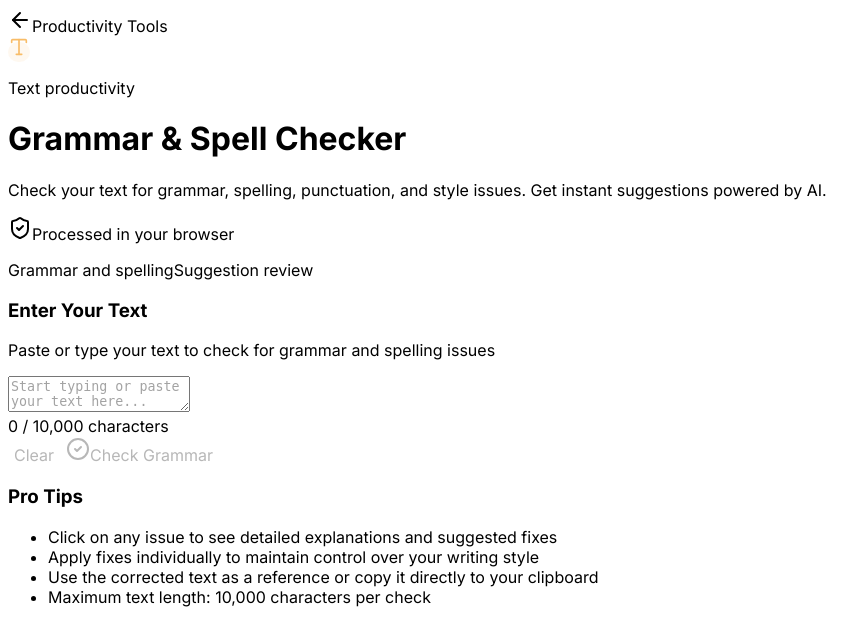
Scenario: Grammar Checker Page › Text Input › updates character count when typing
This screenshot has width=843, height=624.
Type "Hello world" into the text box with placeholder "Start typing or paste your text here...".
click(99, 394); type("Hello world")  # box top-left (8, 376), bottom-right (190, 412)
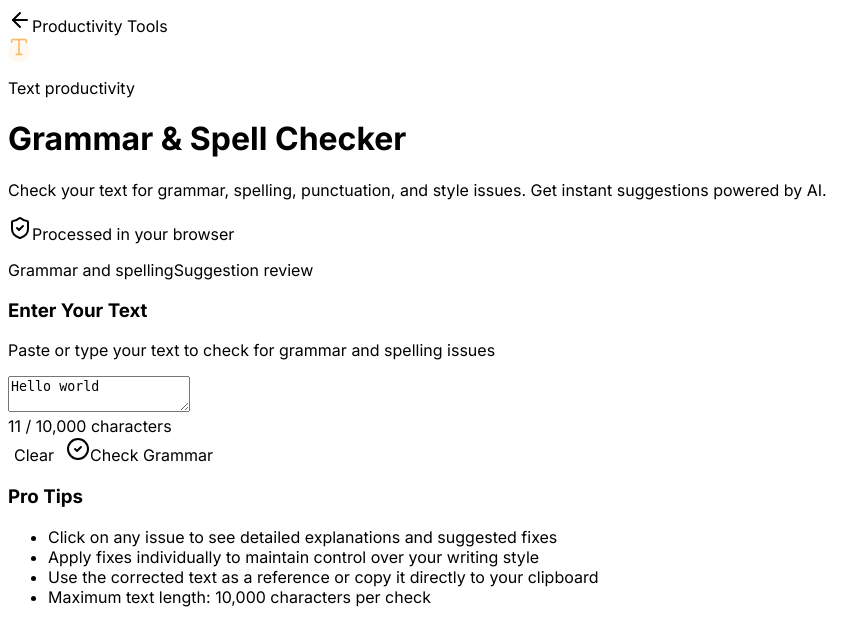
Expected: the text "11 / 10,000 characters" is shown, top-left (8, 416), bottom-right (172, 436)
